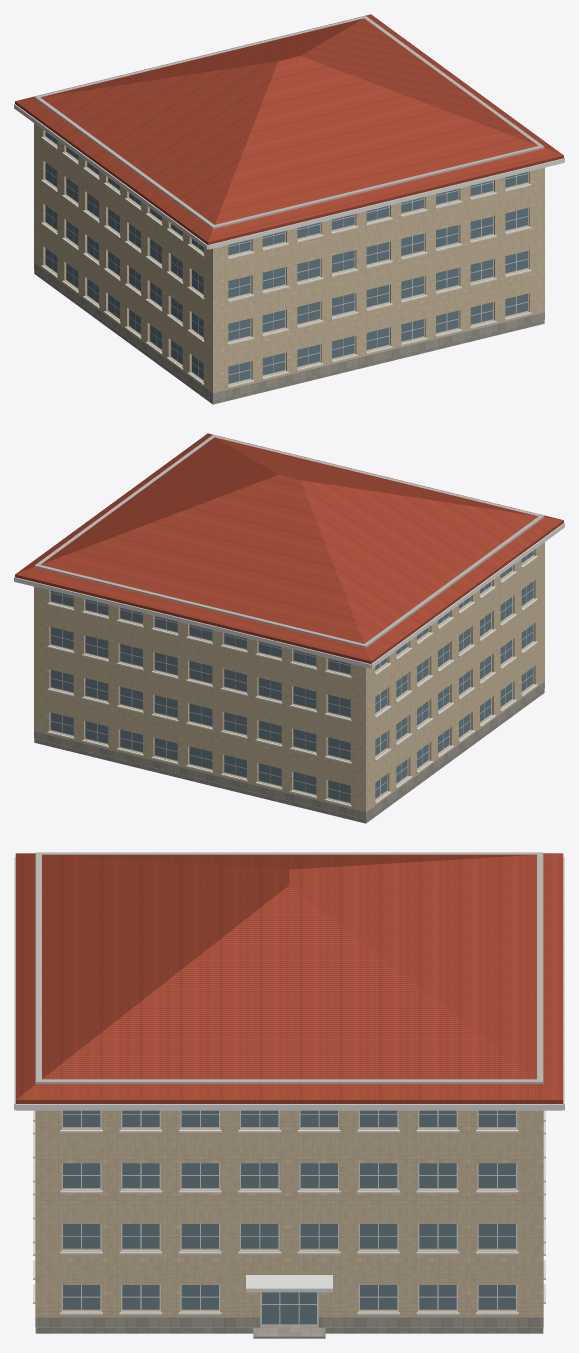
The picture shows the model from 3 angles, top to bottom: view 1: azimuth 30°, elevation 25°; view 2: azimuth 150°, elevation 25°; view 3: azimuth 270°, elevation 25°; orthographic projection. The views are drawn at different scales.
Parts seen in each view (by area): view 1: special1__roof, special1__tile, special1__glass, special1__trim, special1__stone, special1__frame, special1__slab; view 2: special1__roof, special1__tile, special1__glass, special1__trim, special1__stone, special1__frame, special1__slab; view 3: special1__roof, special1__tile, special1__glass, special1__trim, special1__stone, special1__frame, special1__slab, special1__threshold-east.
Part boxes in pixels (bbox=[...]): special1__roof: bbox=[15, 14, 563, 244]; special1__tile: bbox=[34, 100, 544, 393]; special1__glass: bbox=[45, 132, 527, 383]; special1__trim: bbox=[14, 103, 564, 387]; special1__stone: bbox=[34, 263, 544, 404]; special1__frame: bbox=[45, 131, 528, 384]; special1__slab: bbox=[34, 16, 544, 228]; special1__roof: bbox=[15, 433, 563, 663]; special1__tile: bbox=[34, 519, 544, 812]; special1__glass: bbox=[51, 551, 533, 802]; special1__trim: bbox=[14, 522, 564, 806]; special1__stone: bbox=[34, 682, 544, 823]; special1__frame: bbox=[50, 550, 533, 803]; special1__slab: bbox=[34, 435, 544, 647]; special1__roof: bbox=[15, 853, 563, 1103]; special1__tile: bbox=[35, 854, 543, 1317]; special1__glass: bbox=[63, 1110, 515, 1324]; special1__trim: bbox=[14, 857, 564, 1314]; special1__stone: bbox=[35, 1317, 543, 1333]; special1__frame: bbox=[61, 1110, 517, 1325]; special1__slab: bbox=[36, 852, 542, 1083]; special1__threshold-east: bbox=[253, 1327, 325, 1338].
Size of the model in its own units: 32.99 by 20.76 by 30.38.
8 materials, 3 textured.
